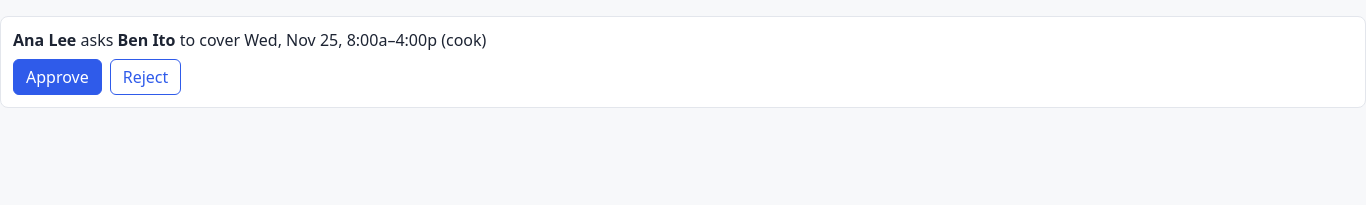
Test case: SwapRequests › shows why an approval was refused and keeps the request
Click the button "Approve".
click(57, 77)  # box [13,59,102,95]
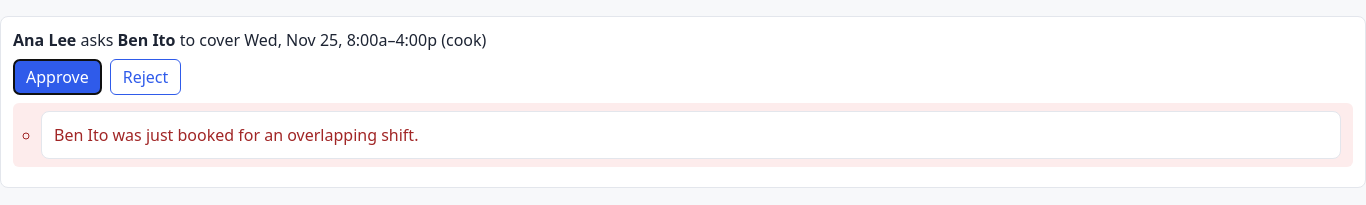
Result: the message shows "just booked for an overlapping shift" at [54,124,418,146]
